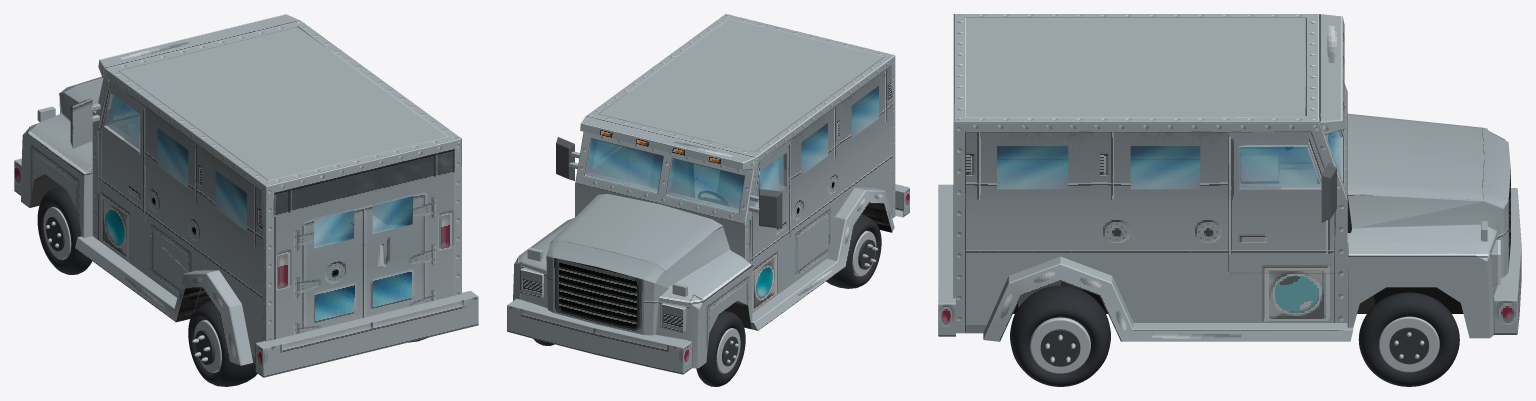
Rendered from car-carmor.glb.
3 renders of one model, left to right at view 1: azimuth 30°, elevation 25°; view 2: azimuth 150°, elevation 25°; view 3: azimuth 270°, elevation 25°, orthographic. The views are drawn at different scales.
Parts seen in each view (by area): view 1: cArmorShape.001, cArmorShape.007, cArmorShape.002, cArmorShape.005, cArmorShape.006, DoorDRotShape.015, cArmorShape.003, Rounded tire.021, Rounded tire.022, cArmorShape.004, cArmorShape, DoorDRotShape.016 (+4 smaller); view 2: cArmorShape.002, cArmorShape.007, cArmorShape.005, cArmorShape.004, cArmorShape.006, cArmorShape.001, DoorDRotShape.015, cArmorShape.003, Rounded tire.022, Rounded tire.021, DoorPRotShape.016, cArmorShape (+5 smaller); view 3: cArmorShape.003, cArmorShape.002, cArmorShape.007, cArmorShape.005, DoorPRotShape.016, cArmorShape.006, Rounded tire.020, Rounded tire.023, cArmorShape.001, DoorPRotShape.017, cArmorShape.004, Alloy rim.020 (+5 smaller).
Boxes of the visible parts, x1,y1,x2,y2 form: cArmorShape.001: [14, 78, 478, 377]; cArmorShape.007: [119, 27, 446, 180]; cArmorShape.002: [21, 76, 263, 363]; cArmorShape.005: [29, 14, 461, 365]; cArmorShape.006: [115, 84, 413, 248]; DoorDRotShape.015: [97, 79, 145, 229]; cArmorShape.003: [158, 129, 412, 230]; Rounded tire.021: [188, 301, 257, 386]; Rounded tire.022: [37, 187, 91, 274]; cArmorShape.004: [37, 106, 385, 241]; cArmorShape: [29, 168, 353, 322]; DoorDRotShape.016: [107, 95, 139, 148]; cArmorShape.002: [513, 66, 893, 368]; cArmorShape.007: [599, 19, 883, 151]; cArmorShape.005: [520, 14, 895, 332]; cArmorShape.004: [527, 123, 777, 334]; cArmorShape.006: [586, 86, 878, 212]; cArmorShape.001: [507, 71, 909, 374]; DoorDRotShape.015: [749, 140, 791, 274]; cArmorShape.003: [519, 78, 883, 296]; Rounded tire.022: [696, 311, 745, 386]; Rounded tire.021: [826, 214, 881, 288]; DoorPRotShape.016: [590, 116, 628, 181]; cArmorShape: [692, 178, 891, 328]; cArmorShape.003: [966, 146, 1489, 338]; cArmorShape.002: [966, 113, 1510, 337]; cArmorShape.007: [966, 18, 1305, 116]; cArmorShape.005: [953, 14, 1500, 341]; DoorPRotShape.016: [1228, 132, 1334, 273]; cArmorShape.006: [997, 131, 1340, 189]; Rounded tire.020: [1010, 285, 1110, 386]; Rounded tire.023: [1358, 292, 1459, 386]; cArmorShape.001: [938, 135, 1521, 336]; DoorPRotShape.017: [1239, 146, 1320, 187]; cArmorShape.004: [1240, 17, 1510, 268]; Alloy rim.020: [1030, 317, 1090, 373].
Size of the model in its own units: 3.34 by 2.88 by 5.75.
11 materials, 8 textured.
